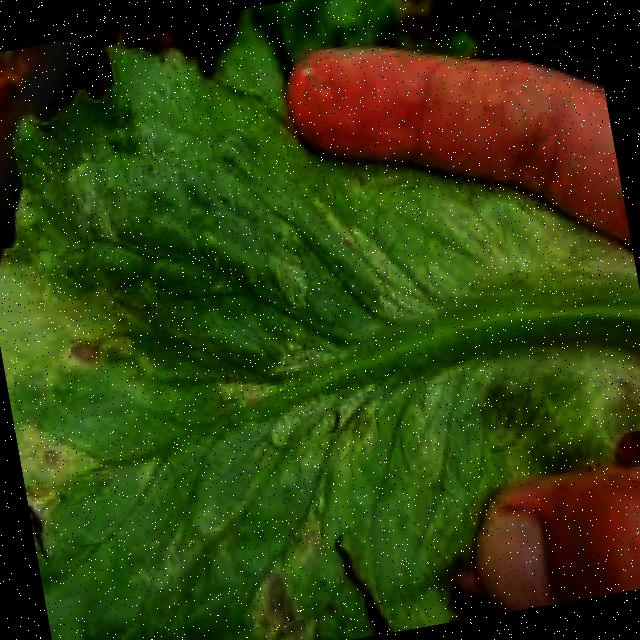Downy_mildew_on_lettuce: (0, 220, 335, 553)
